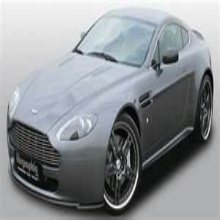no damage: (7, 7, 213, 213)
